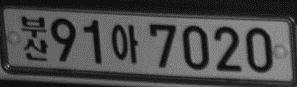0: (182, 24, 210, 70), (245, 27, 273, 73)
1: (81, 19, 108, 64)
2: (214, 25, 241, 72)
7: (148, 23, 176, 68)
9: (51, 17, 76, 62)
부산_V: (21, 15, 48, 61)
아: (111, 24, 138, 63)
